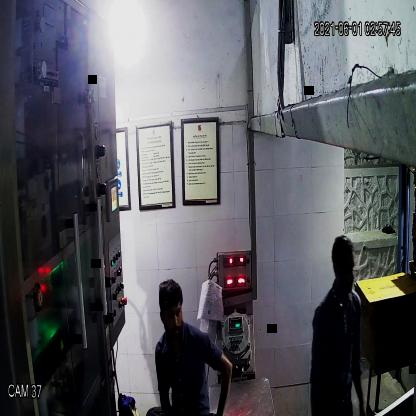no_goggles: (158, 304, 186, 324)
